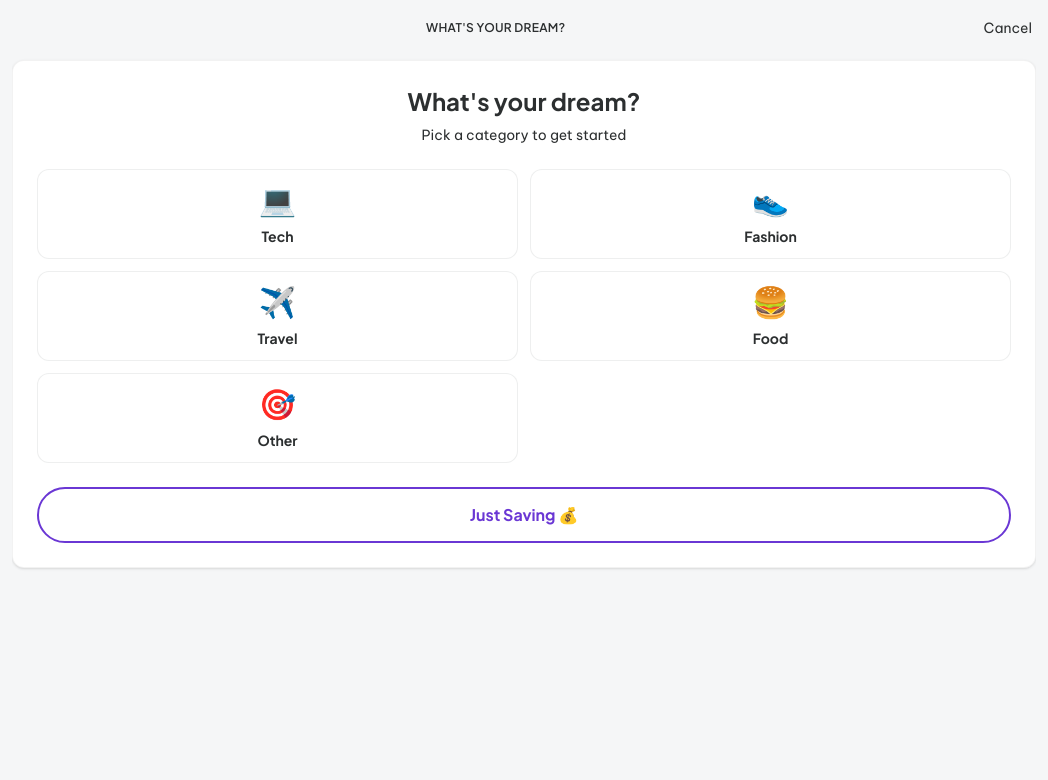
GoalSetupForm › advances to date picker after amount entry
// pick category
Click the button with aria-label "save for tech" at (278, 214), box [37,169,518,259]
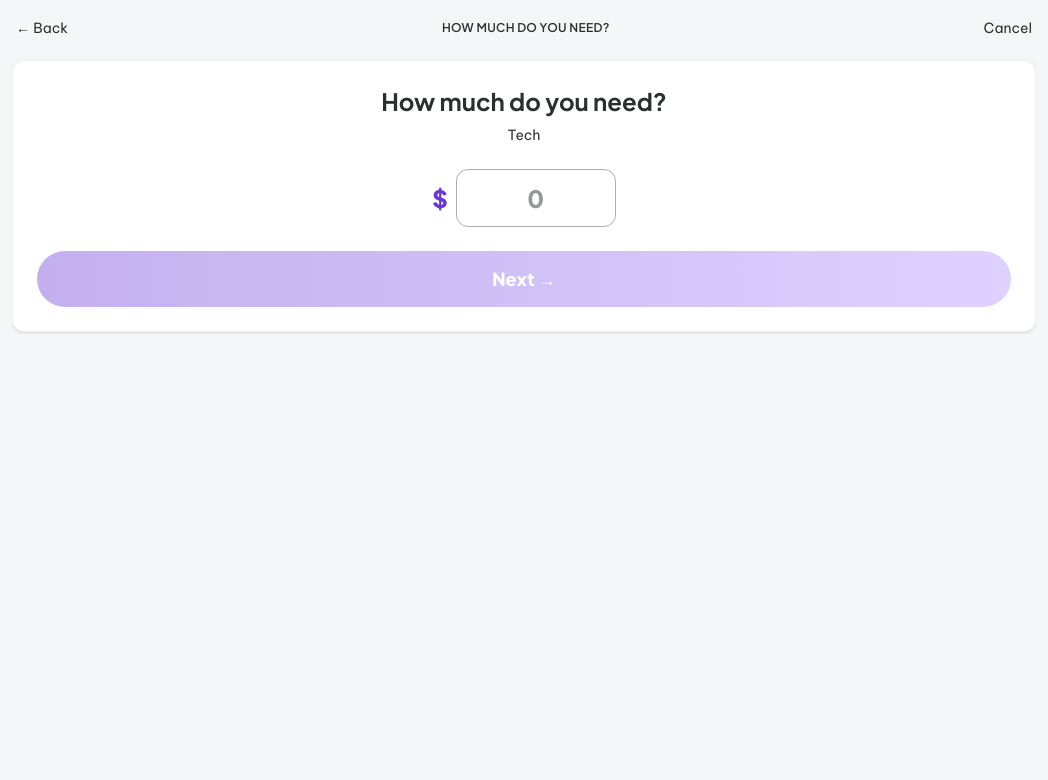
// enter amount
Type "249" into the field named "goal amount" at (536, 198), box [456,169,616,227]
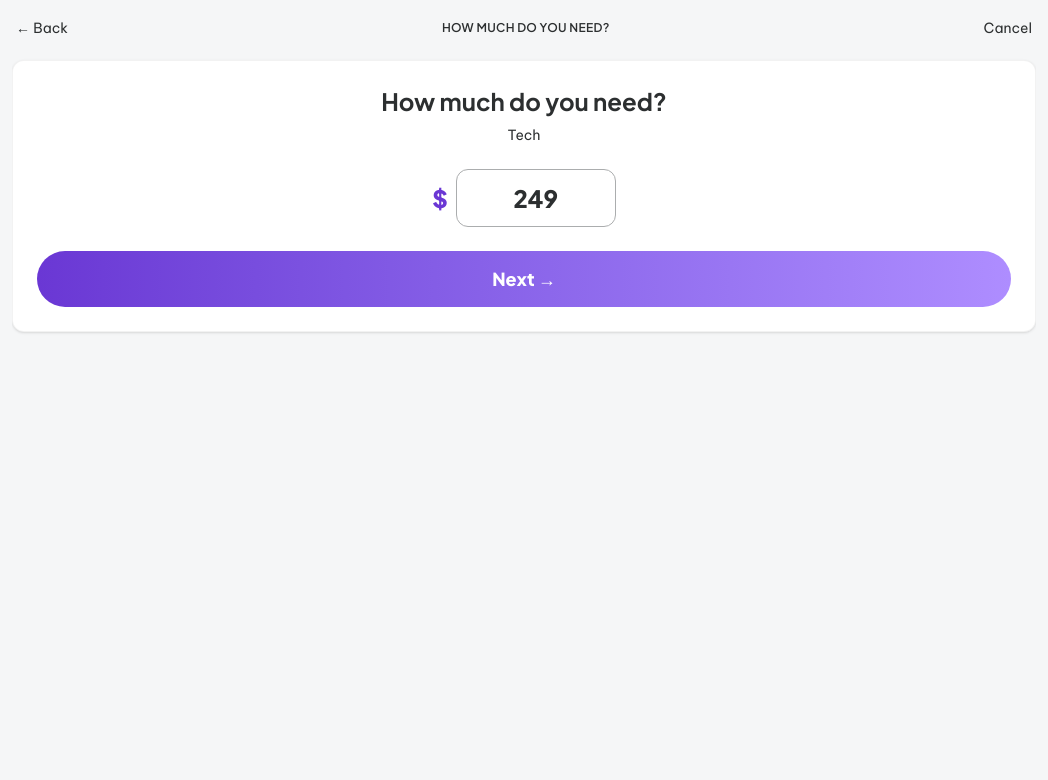
Click the button "Next →" at (524, 279), box [37,251,1011,307]
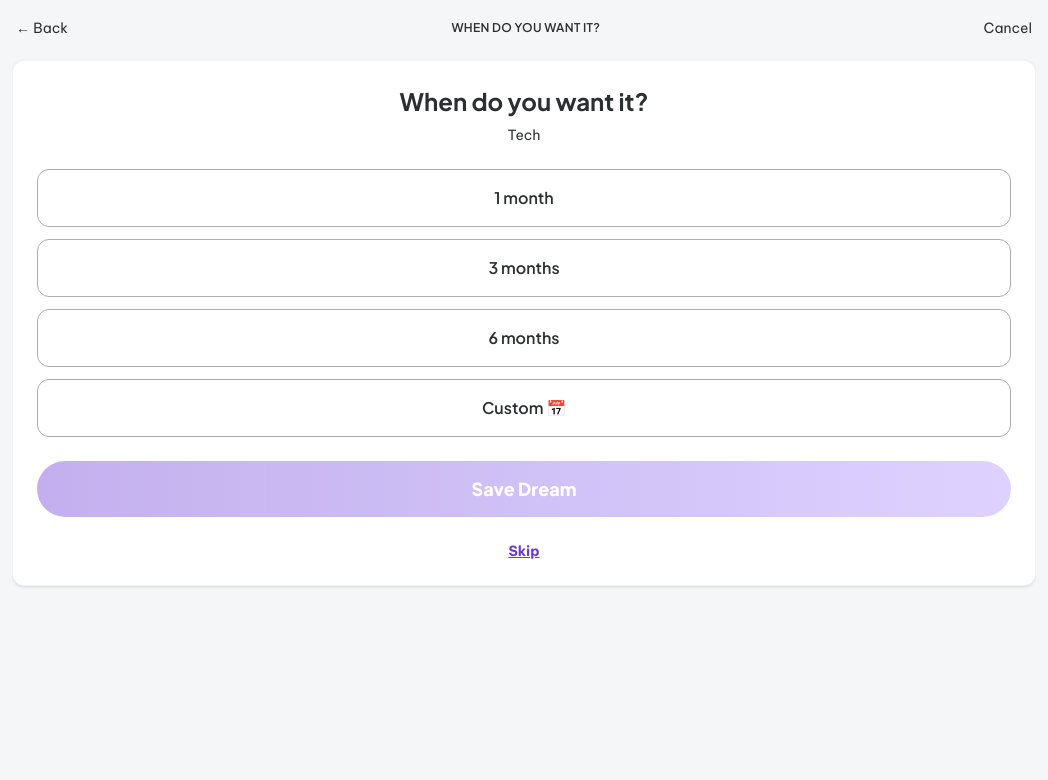
Now the heading "When do you want it?" is shown, box [400,86,648,116]
